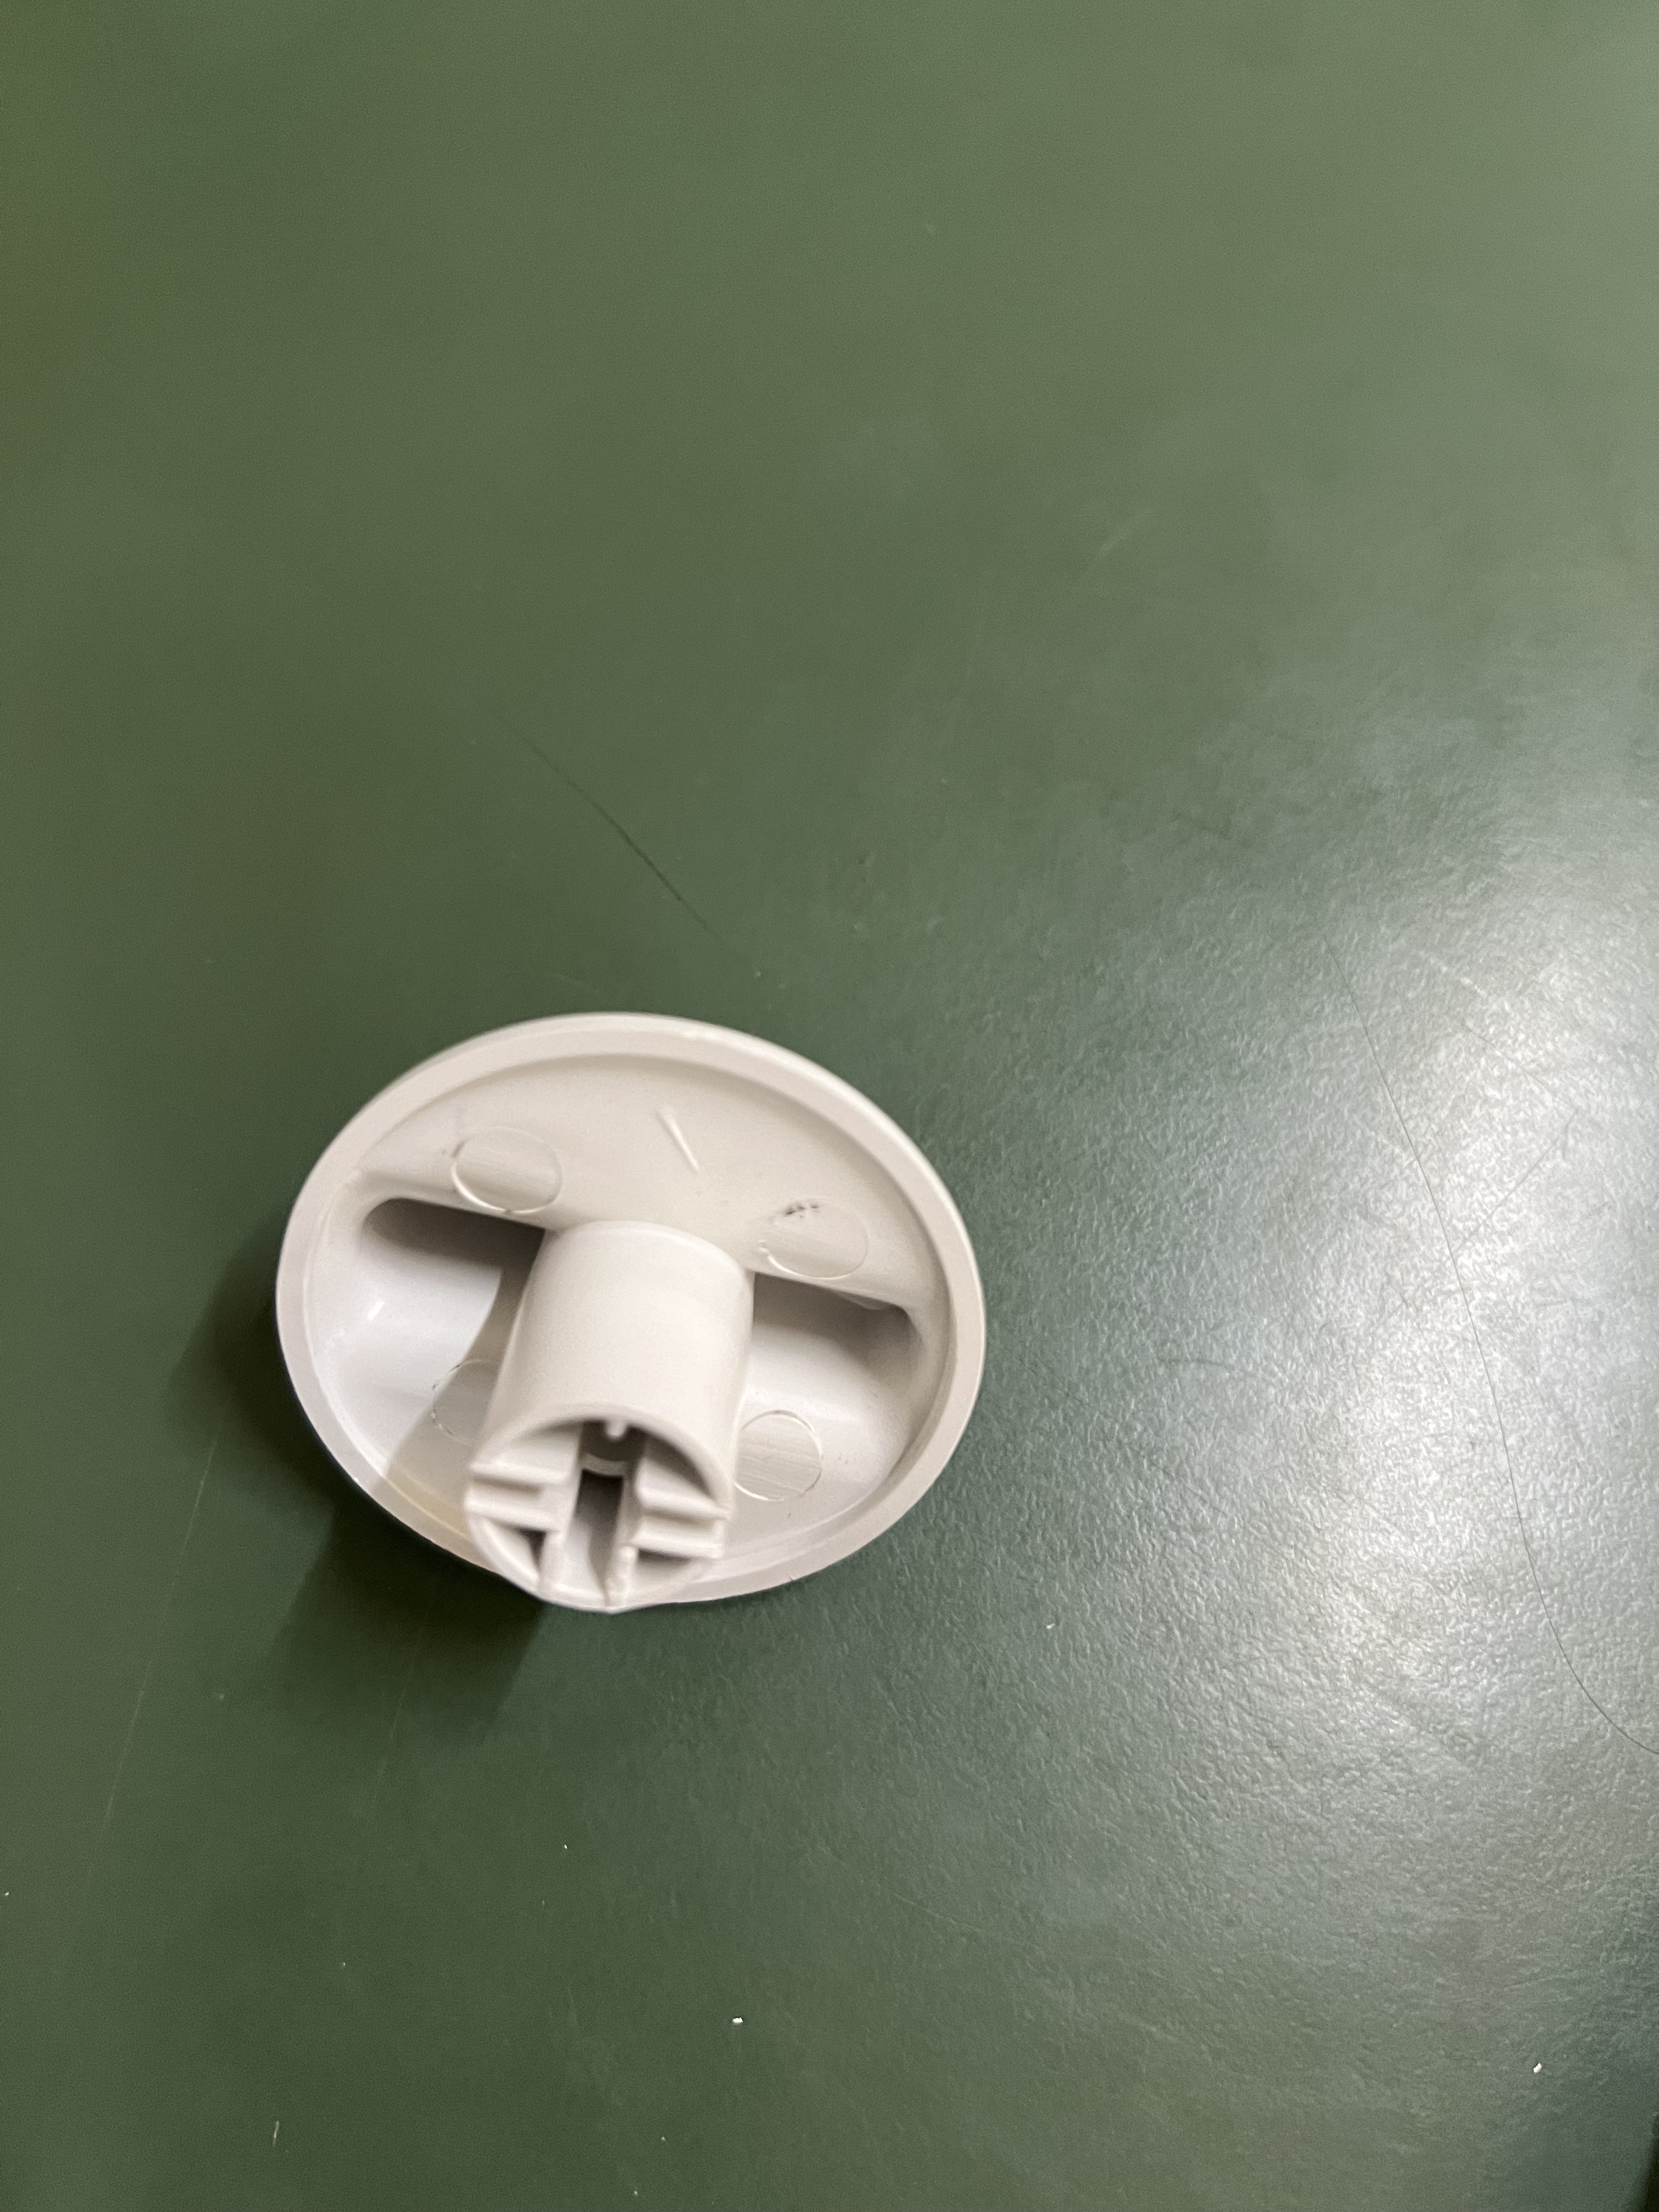regulator: (263, 995, 1021, 1634)
